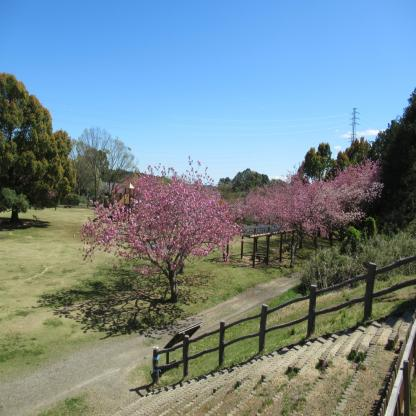YaeSakura: (72, 152, 240, 301), (238, 162, 308, 250), (340, 155, 386, 240), (295, 162, 313, 238), (310, 178, 330, 240), (325, 172, 342, 237)
